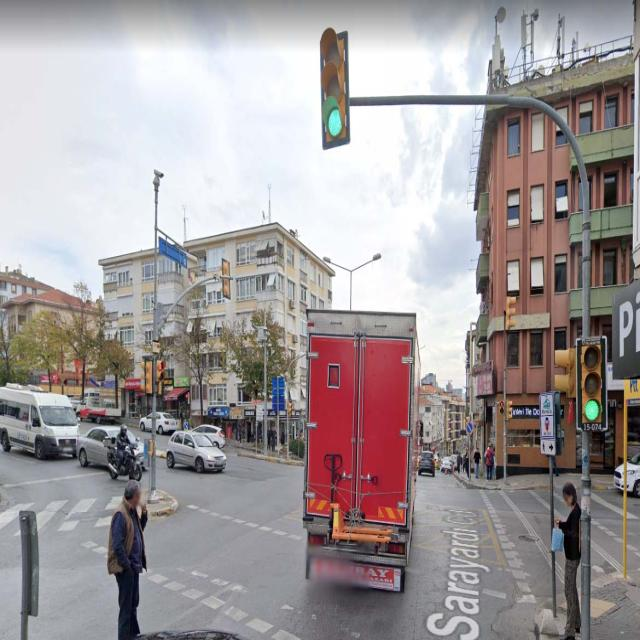yesil: (320, 26, 351, 148), (578, 338, 606, 426)
